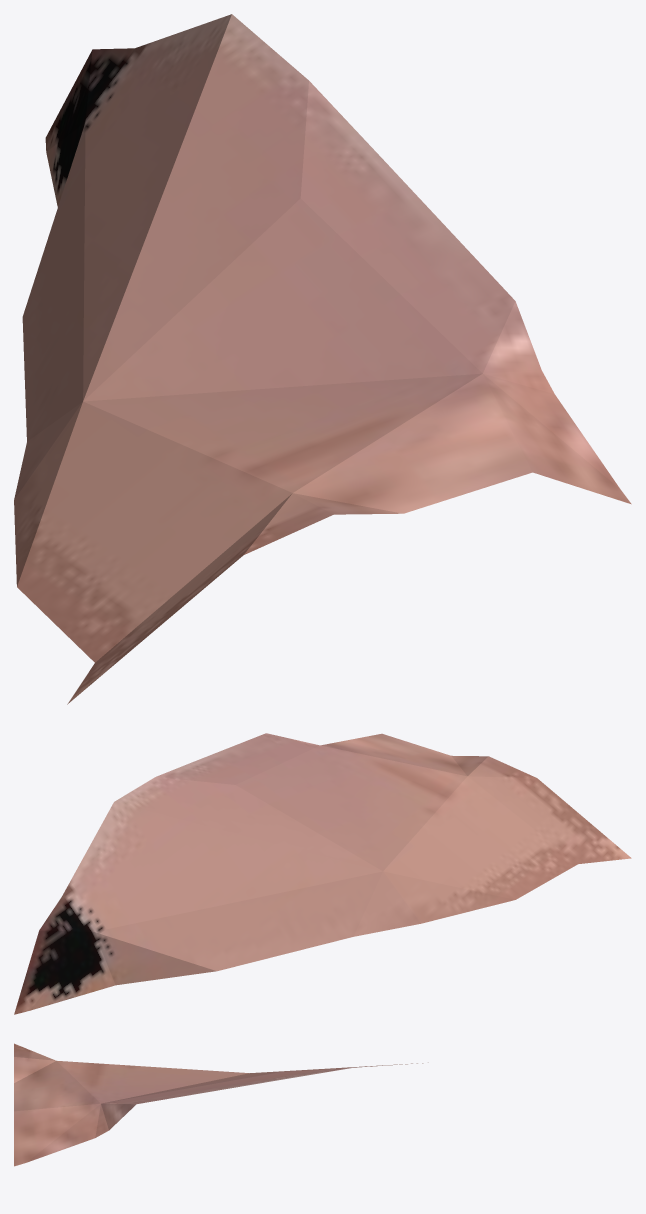
3 renders of one model, top to bottom at view 1: azimuth 30°, elevation 25°; view 2: azimuth 150°, elevation 25°; view 3: azimuth 270°, elevation 25°, orthographic. The views are drawn at different scales.
Size of the model in its own units: 0.5611 by 0.247 by 1.01.
1 material, 1 textured.
